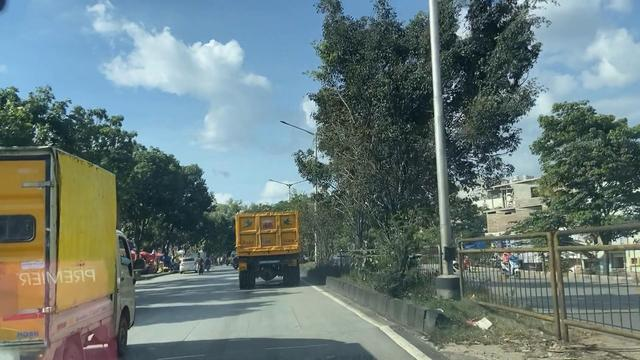HMV: (9, 145, 139, 360), (232, 207, 308, 290)
